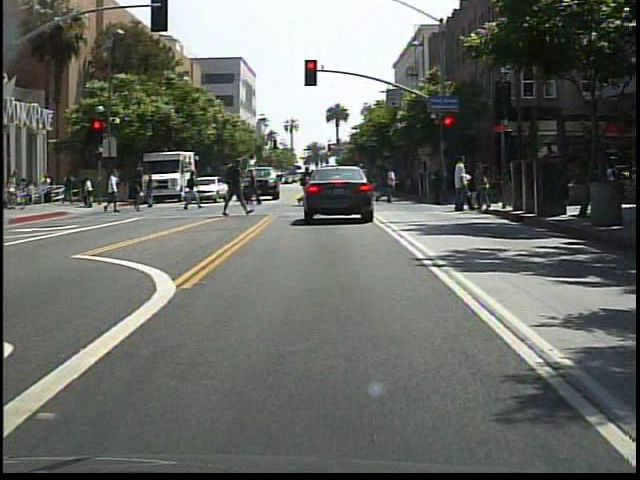person: (445, 153, 478, 214), (221, 155, 250, 224), (353, 165, 377, 219), (102, 169, 125, 215), (183, 168, 204, 213), (131, 171, 146, 216), (246, 168, 263, 207), (144, 171, 160, 212)
